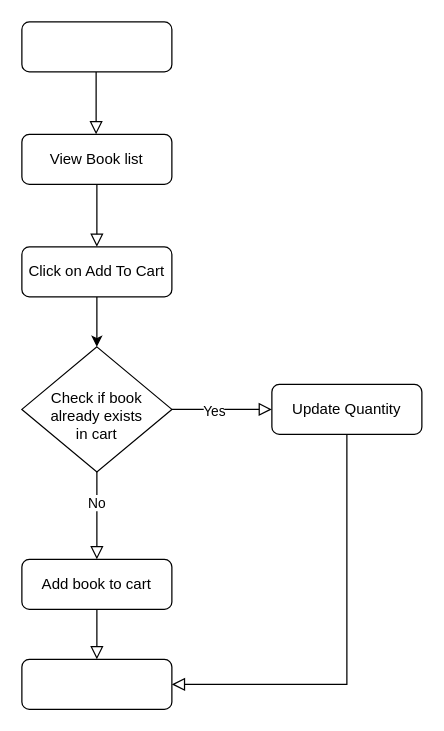
The diagram is 444 pixels wide and 731 high, and some of its shapes have lost their labels. Each missing label, with the centre of its shape:
"END" goes at (96,683).
"START" goes at (96,46).
